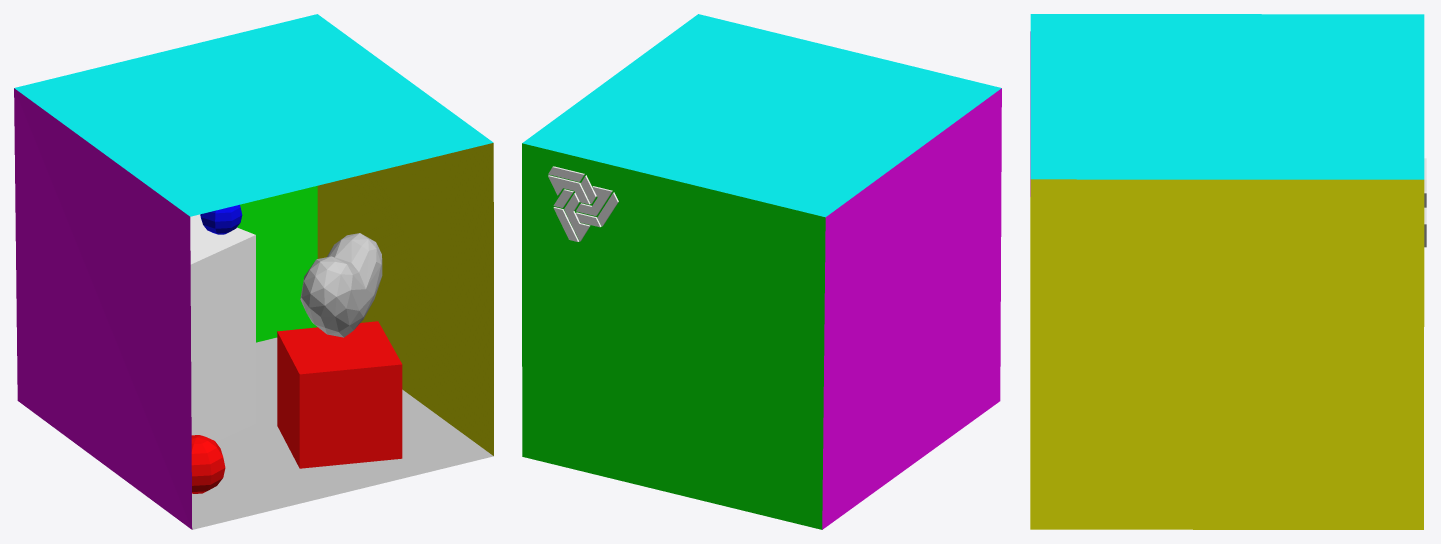
Rendered from loveBox3.obj.
3 views of the same model, side by side, from view 1: azimuth 30°, elevation 25°; view 2: azimuth 150°, elevation 25°; view 3: azimuth 270°, elevation 25° (orthographic). The views are drawn at different scales.
Visible parts, largest first — view 1: left_wall, ceiling, right_wall, short_box, floor, tall_box, back_wall, Love, sphere2, sphere3; view 2: back_wall, left_wall, ceiling, logo; view 3: right_wall, ceiling.
Boxes of the visible parts, x1,y1,x2,y2 form: left_wall: [14, 88, 192, 529]; ceiling: [14, 14, 493, 216]; right_wall: [317, 143, 493, 455]; short_box: [277, 321, 402, 468]; floor: [192, 337, 493, 529]; tall_box: [190, 214, 255, 441]; back_wall: [237, 186, 317, 342]; Love: [300, 233, 382, 337]; sphere2: [191, 435, 225, 493]; sphere3: [200, 204, 242, 234]; back_wall: [522, 143, 825, 529]; left_wall: [822, 88, 1001, 529]; ceiling: [522, 14, 1001, 217]; logo: [548, 166, 618, 241]; right_wall: [1030, 179, 1424, 529]; ceiling: [1030, 14, 1424, 179].
Size of the model in its own units: 5.56 by 5.49 by 5.63.
